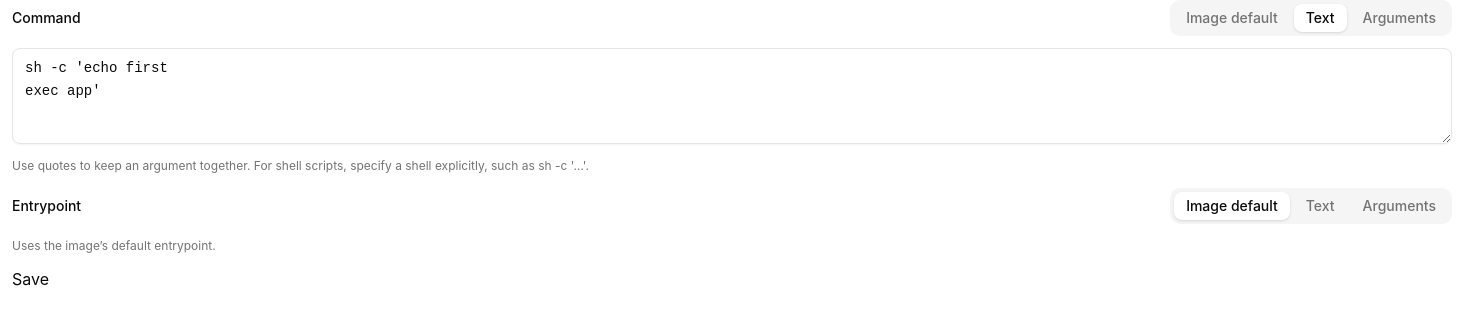
Test case: preserves multiline text and refuses to guess malformed argument boundaries
Replace the text in the text box named "Command" with "echo \"unfinished": (732, 96) 12,48 -> 1452,144
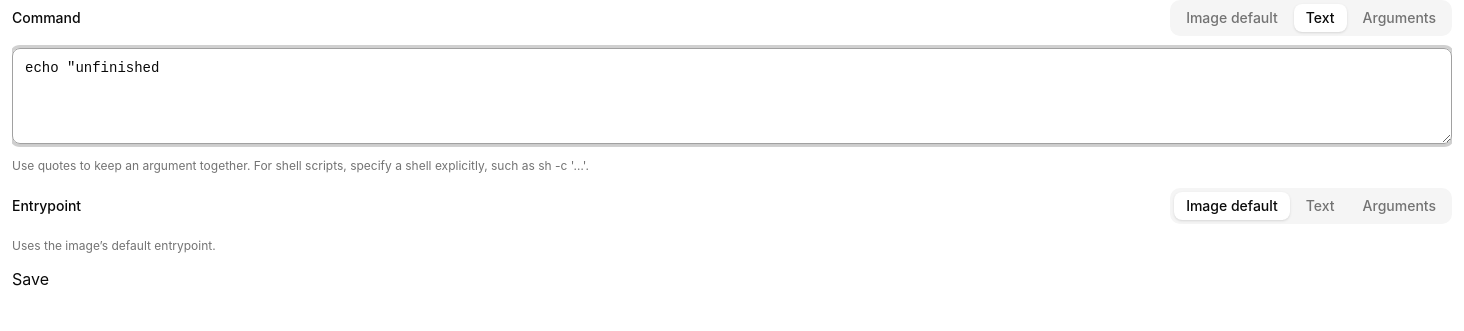
Click the radio button labelled "Arguments" in the row of "Command": (1399, 18) 1351,4 -> 1448,32
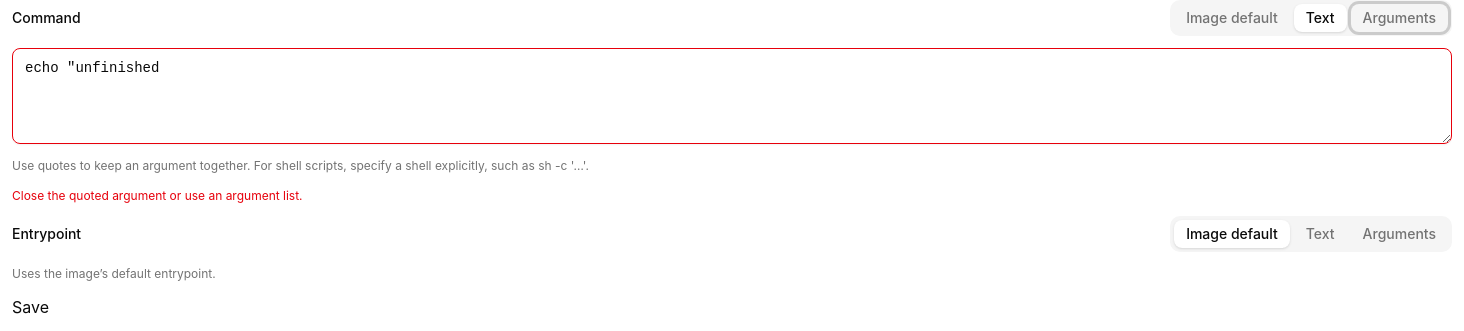
Expected: the message shows "Close the quoted argument", 12,188 -> 303,202
